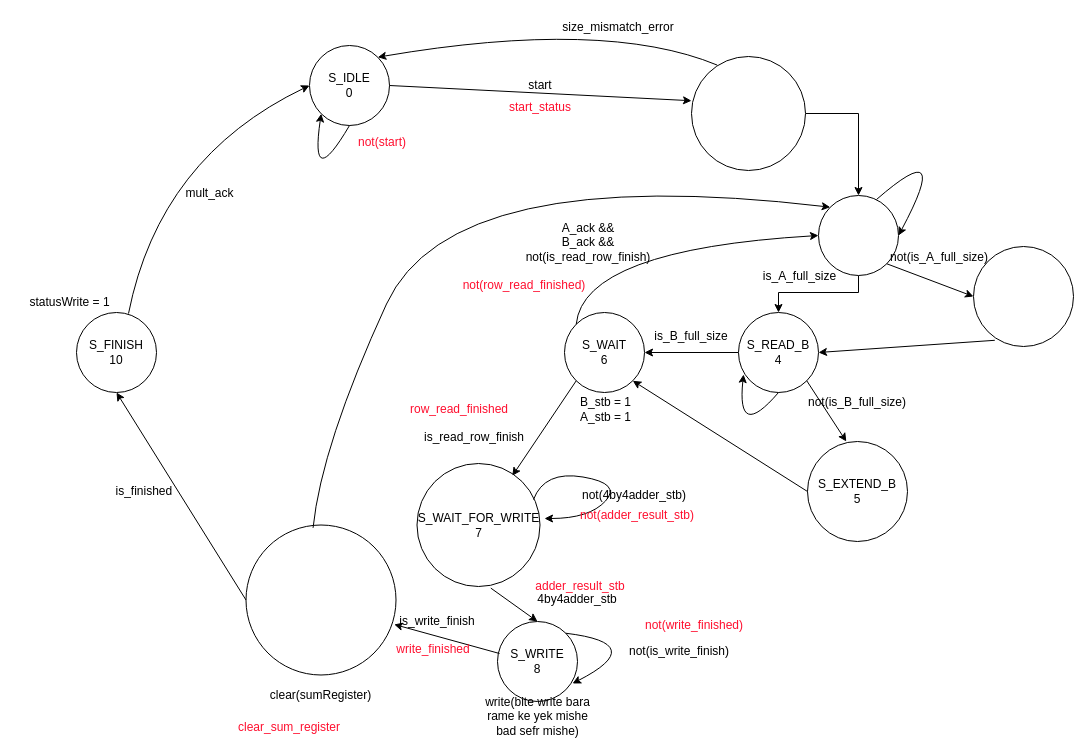
Some shapes in this 1091 by 755 pixel diagram are drawn without their labels. The shapes that lost their labels are listed below. From the top down, each one's box as (x1, y1, x2, y2) in pixels, then its label:
(690, 56, 806, 170): S_READ_CONFIG 1
(818, 194, 898, 276): S_READ_A 2
(972, 246, 1074, 346): S_EXTEND_A 3
(245, 524, 396, 675): S_PREPARE_TO_READ 9
